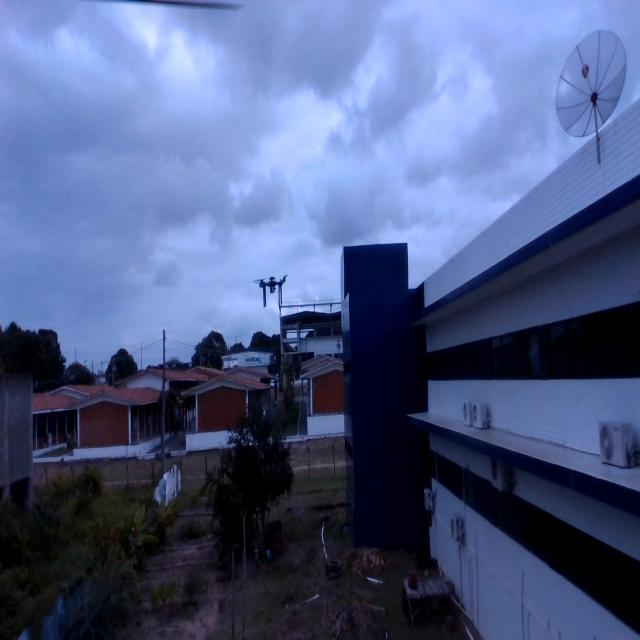-uav-: (249, 264, 294, 318)
